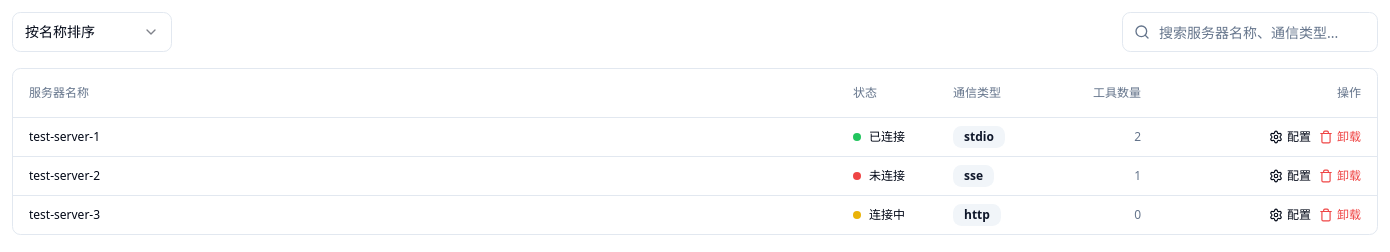
Test case: McpServerTable › 搜索功能 › 按通信类型搜索应该正确过滤
The image size is (1390, 252).
Type "stdio" into the field with placeholder "搜索服务器名称、通信类型..." at x=1250, y=32, box [1122,12,1378,52]
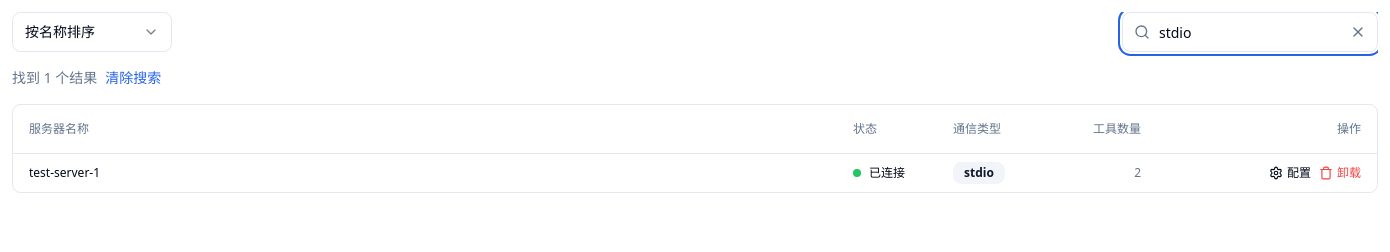
Expected: the text "test-server-1" is shown, [13,154,837,192]
Expected: the text "找到 1 个结果 清除搜索" is shown, [12,68,161,88]
